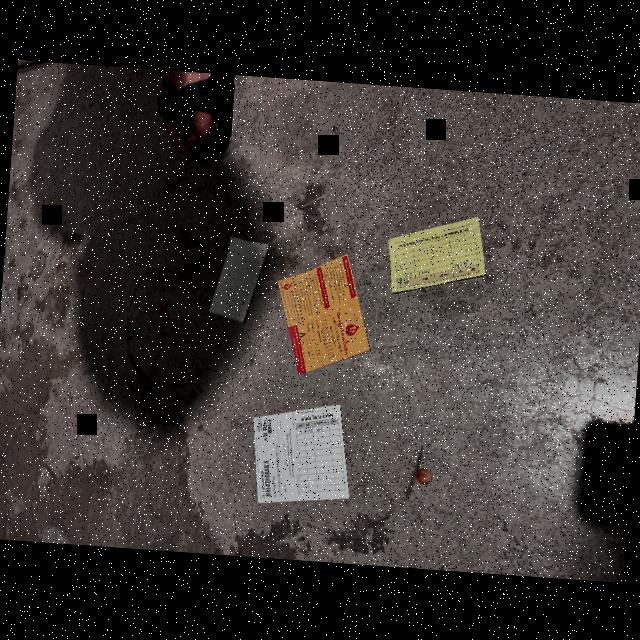scrap_paper: (234, 396, 360, 516), (266, 242, 380, 374), (376, 206, 492, 300), (202, 217, 270, 333)
